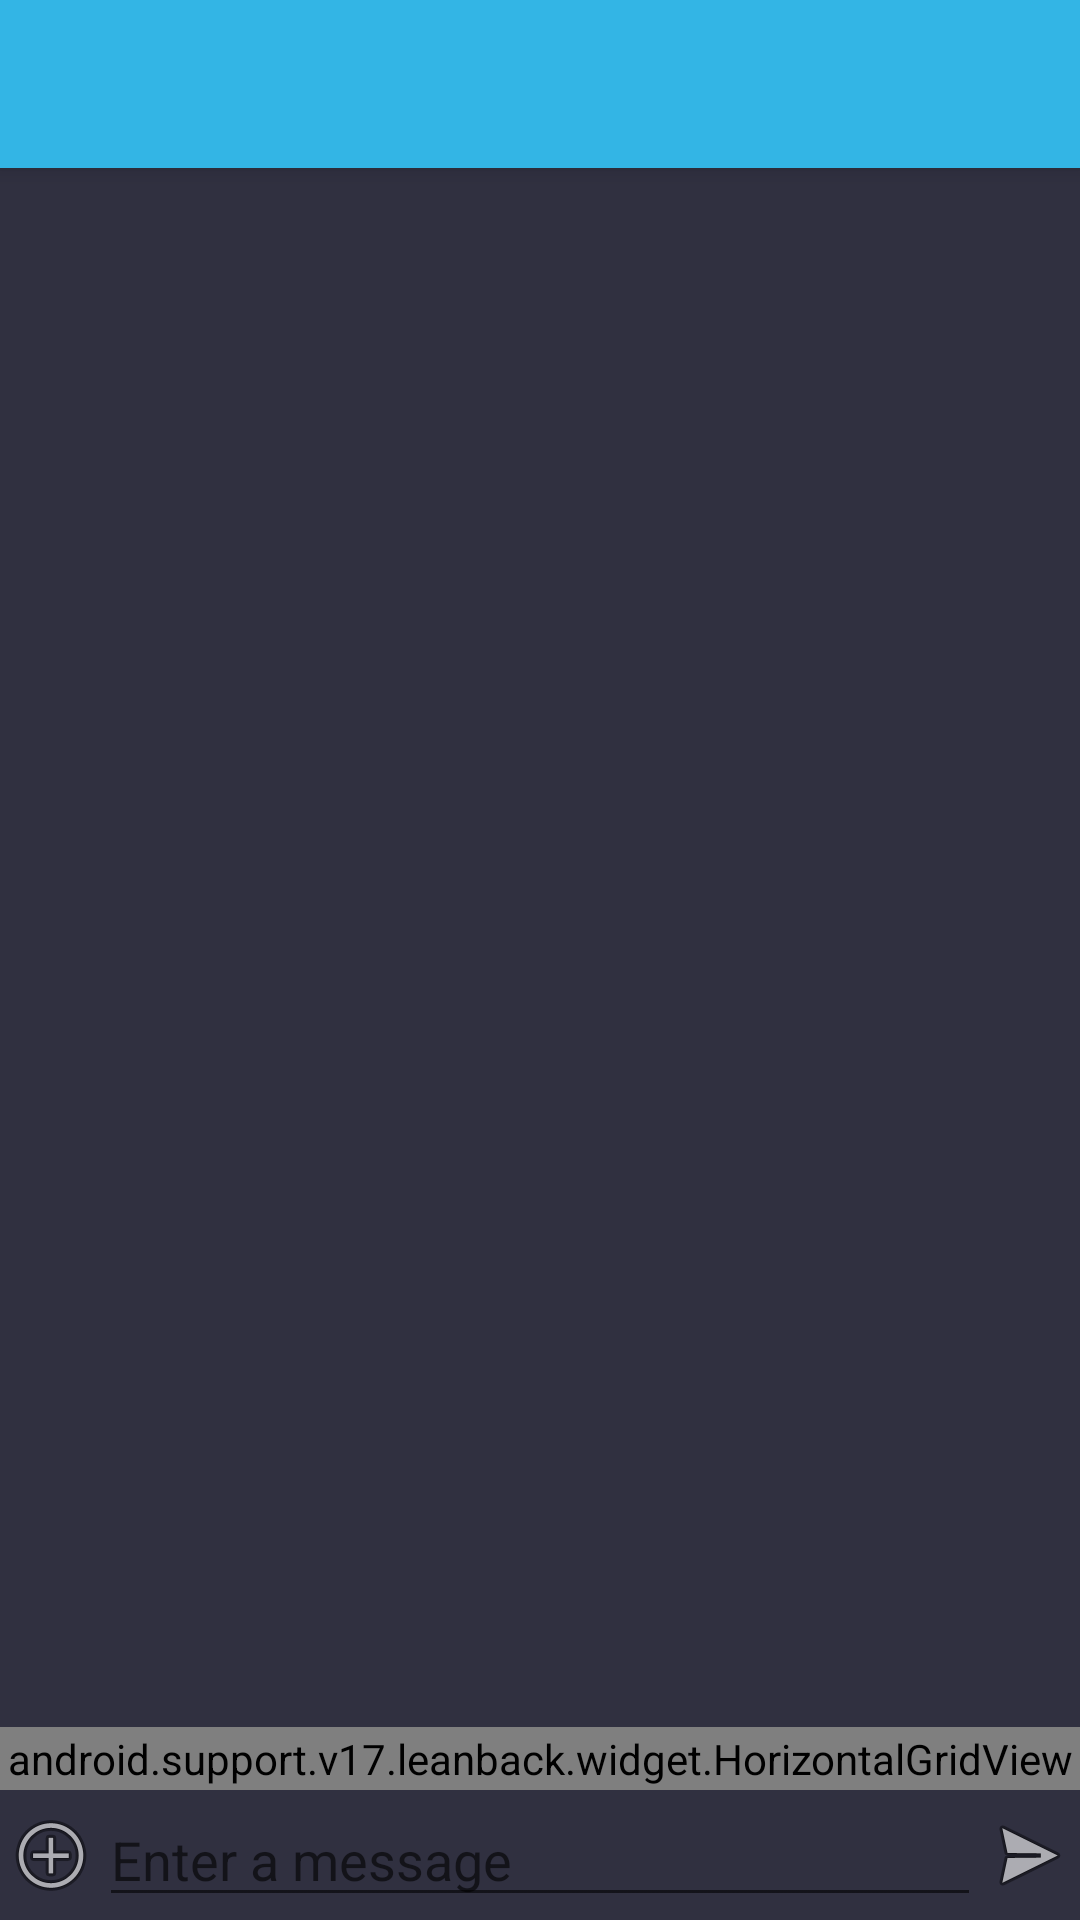

Icon click points for this 1080px×1920px phone screenshot, format point (x, y):
add: point (51, 1855)
send: point (1030, 1855)
